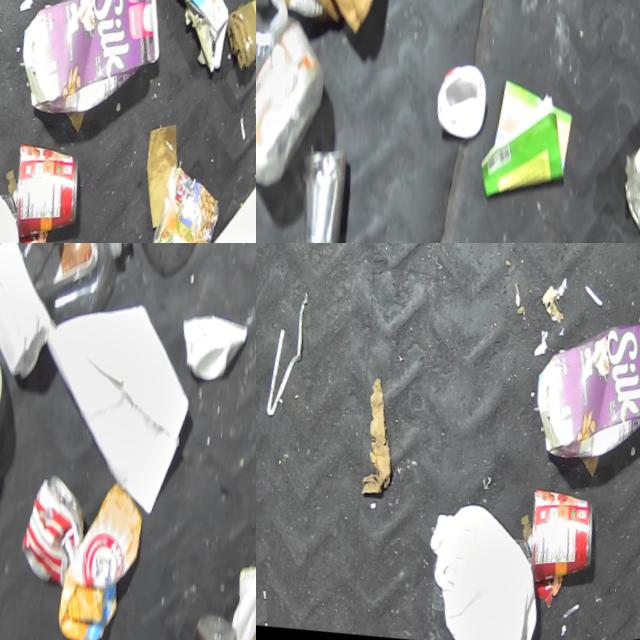can: (0, 467, 86, 593), (505, 487, 593, 597), (0, 141, 78, 243), (283, 139, 354, 243), (129, 164, 217, 243)
milk_jug: (394, 493, 543, 640)
non_white_jug: (0, 0, 168, 141), (510, 305, 640, 486), (256, 0, 346, 201)
